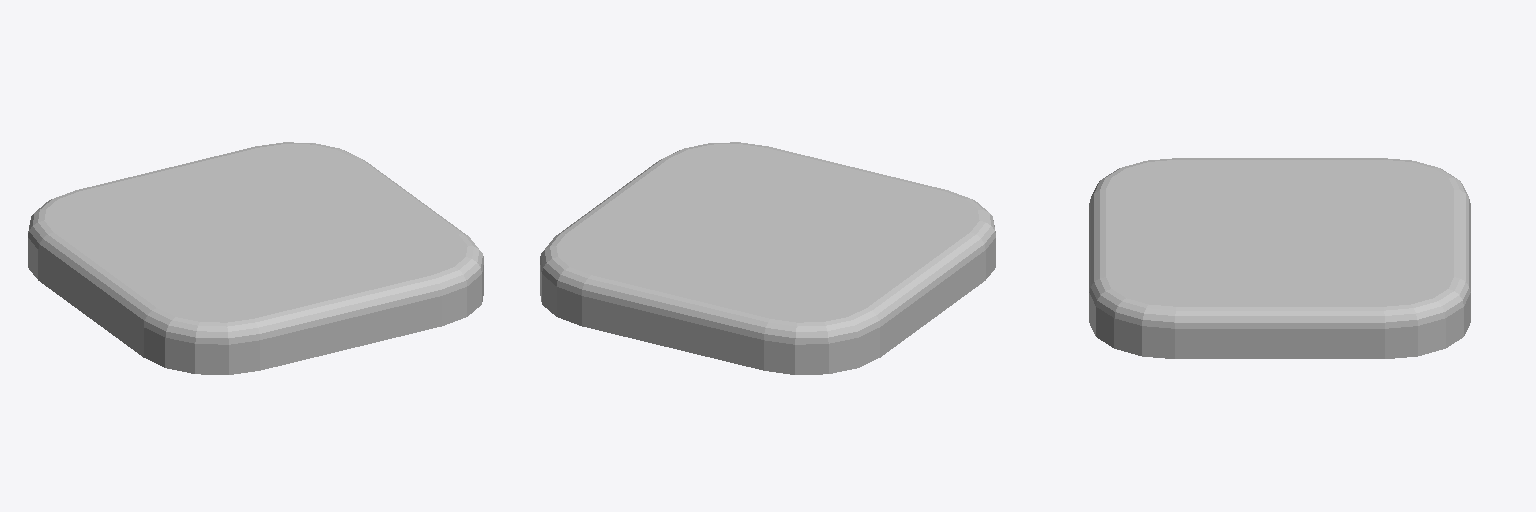
File: Tile.obj
3 renders of one model, left to right at view 1: azimuth 30°, elevation 25°; view 2: azimuth 150°, elevation 25°; view 3: azimuth 270°, elevation 25°, orthographic.
Visible parts, largest first — view 1: Cube; view 2: Cube; view 3: Cube.
Part boxes in pixels (bbox=[...]): Cube: bbox=[28, 142, 483, 374]; Cube: bbox=[540, 142, 995, 374]; Cube: bbox=[1089, 158, 1470, 358].
Bounding box in the file's own units: 2 × 0.2634 × 2.